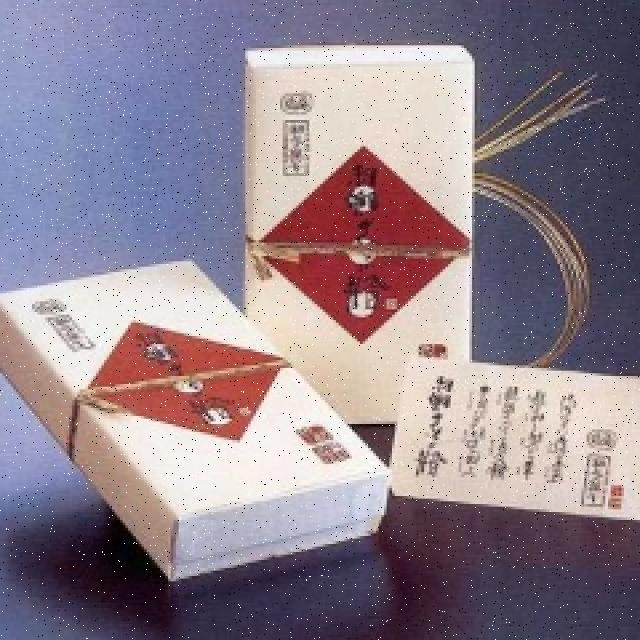box: (7, 249, 387, 562), (233, 42, 497, 427)
